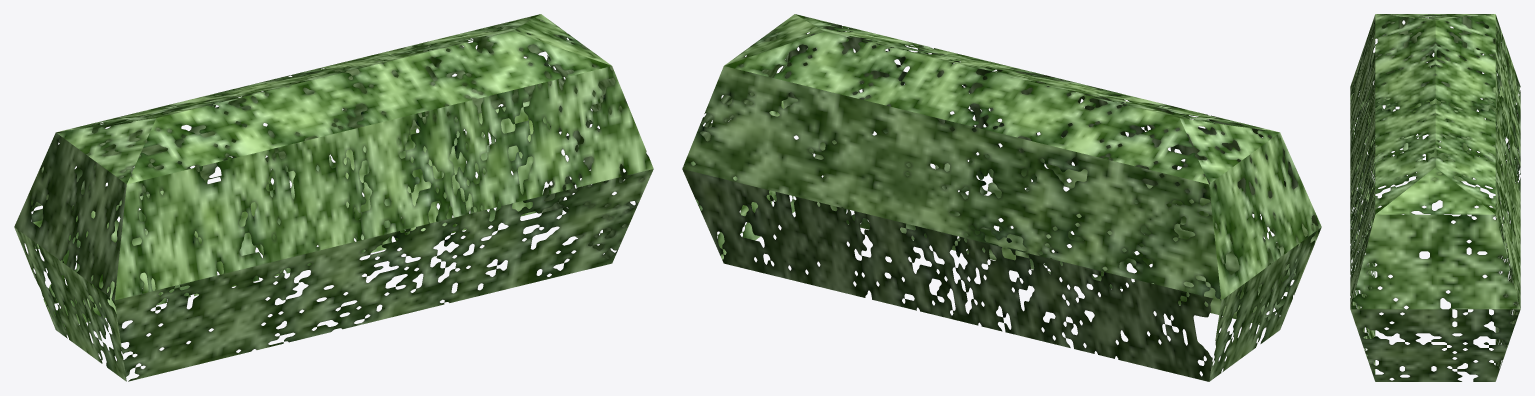
The model's file is bush_long_single_summer.fbx.
The picture shows the model from 3 angles, left to right: view 1: azimuth 30°, elevation 25°; view 2: azimuth 150°, elevation 25°; view 3: azimuth 270°, elevation 25°; orthographic projection. The views are drawn at different scales.
Parts seen in each view (by area): view 1: bush_long_single_summer; view 2: bush_long_single_summer; view 3: bush_long_single_summer.
Part boxes in pixels (<box>): bush_long_single_summer: <box>14,14,653,381</box>; bush_long_single_summer: <box>682,14,1321,381</box>; bush_long_single_summer: <box>1350,14,1520,381</box>.
Bounding box in the file's own units: 223 × 87.65 × 71.91.
1 material, 1 textured.
